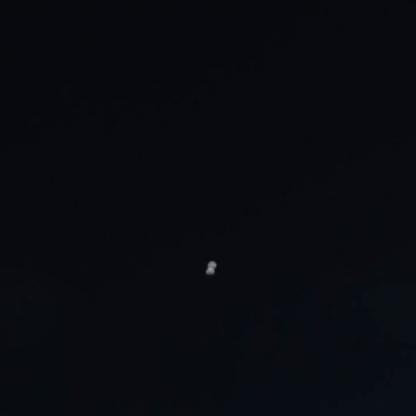ball: (198, 261, 216, 278), (202, 259, 226, 270)
